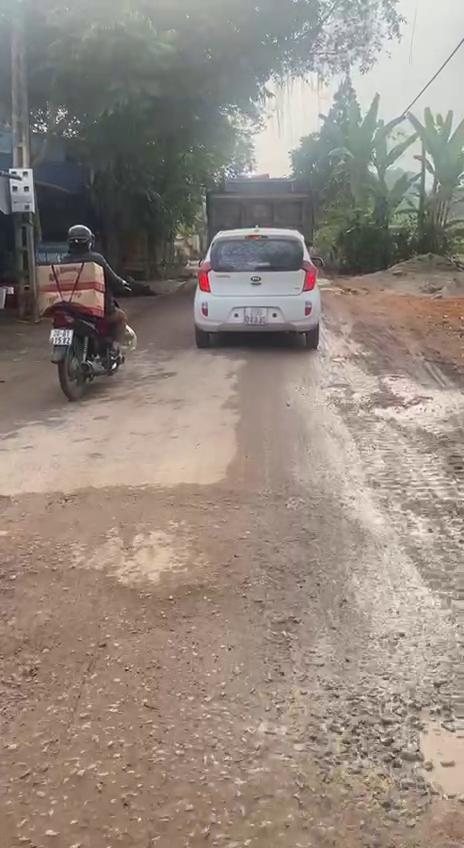pothole: (317, 674, 464, 808)
